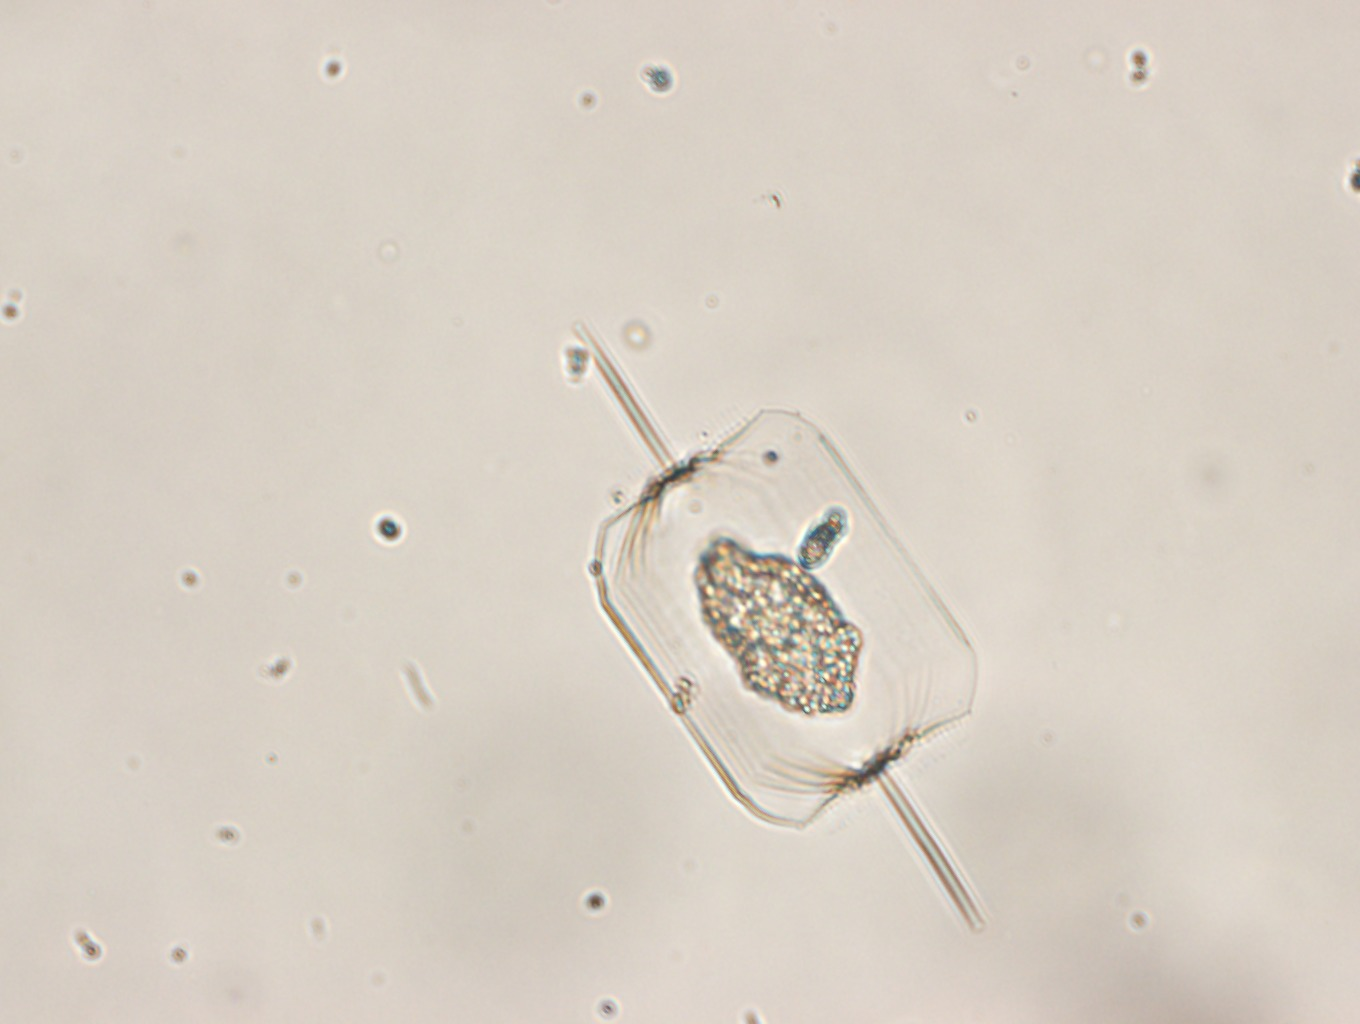ditylum: (571, 324, 983, 939)
